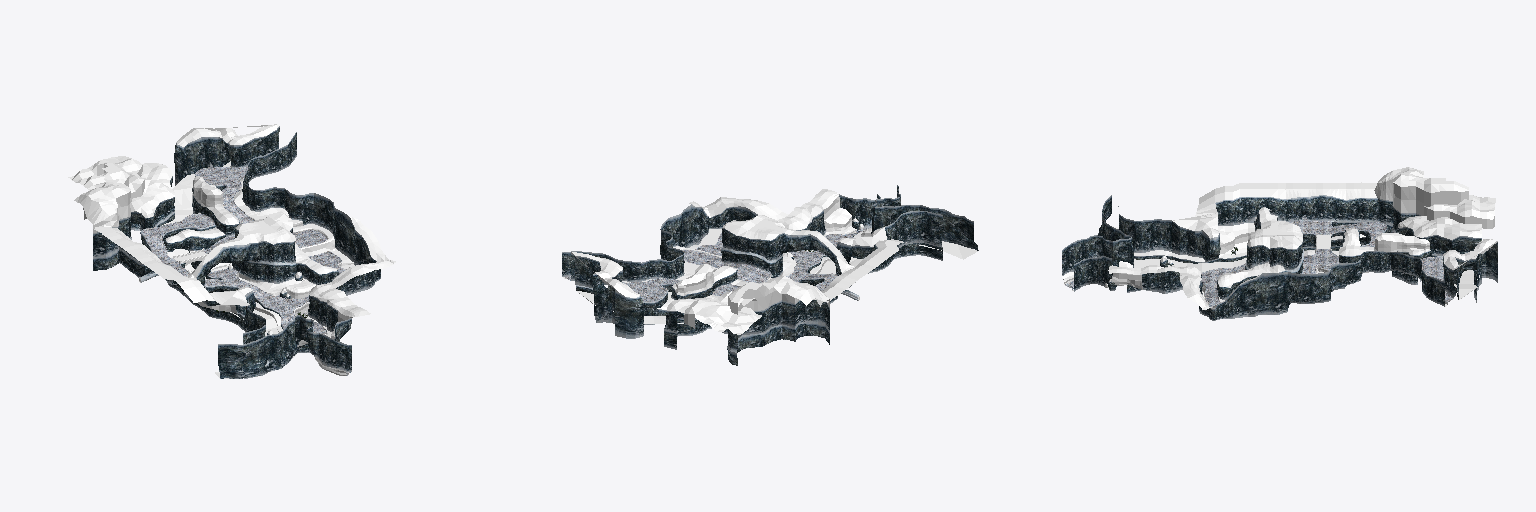
3 views of the same model, side by side, from view 1: azimuth 30°, elevation 25°; view 2: azimuth 150°, elevation 25°; view 3: azimuth 270°, elevation 25° (orthographic).
Visible parts, largest first — view 1: Object.339, Object.343, Object.345, Object.342, Object.349; view 2: Object.339, Object.343, Object.345, Object.342, Object.349; view 3: Object.339, Object.343, Object.342, Object.345, Object.349.
Boxes of the visible parts, x1=… form: Object.339: x1=93, y1=126, x2=380, y2=378; Object.343: x1=68, y1=124, x2=395, y2=373; Object.345: x1=141, y1=166, x2=349, y2=375; Object.342: x1=93, y1=164, x2=353, y2=375; Object.349: x1=162, y1=161, x2=296, y2=378; Object.339: x1=562, y1=185, x2=978, y2=365; Object.343: x1=563, y1=189, x2=906, y2=334; Object.345: x1=565, y1=228, x2=868, y2=301; Object.342: x1=565, y1=196, x2=870, y2=328; Object.349: x1=577, y1=241, x2=977, y2=323; Object.339: x1=1062, y1=193, x2=1497, y2=320; Object.343: x1=1062, y1=167, x2=1497, y2=309; Object.342: x1=1064, y1=179, x2=1494, y2=316; Object.345: x1=1065, y1=216, x2=1453, y2=306; Object.349: x1=1112, y1=226, x2=1479, y2=299.
Bounding box in the file's own units: 151 × 51.25 × 230.
Materials: 13 (3 with a texture image).